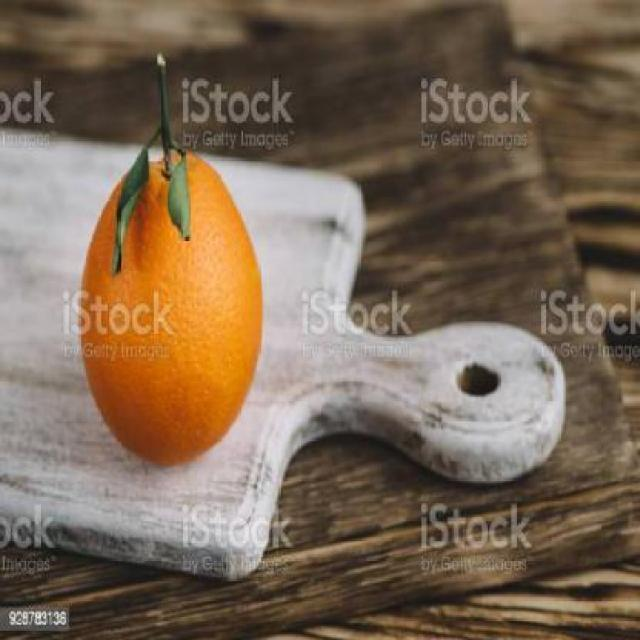Jeruk Sudah Matang: (81, 137, 267, 468)
